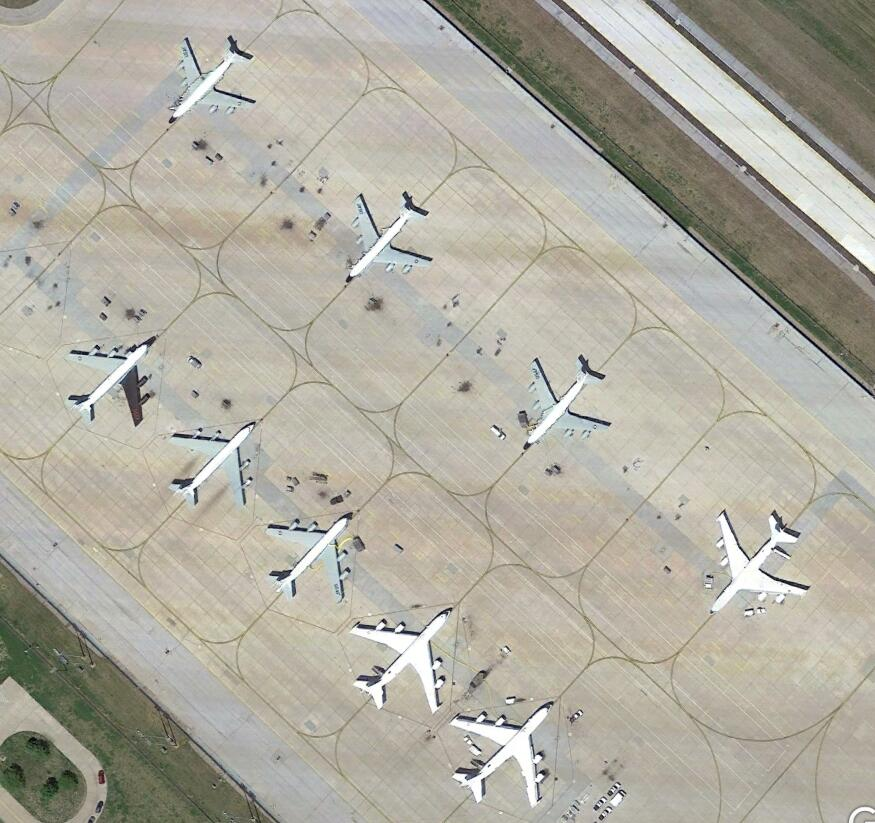A11: (339, 597, 464, 715), (450, 693, 566, 812), (708, 493, 814, 618), (520, 358, 613, 451), (169, 420, 264, 511), (344, 192, 436, 284), (66, 337, 160, 426), (267, 509, 355, 601), (165, 39, 259, 123)
